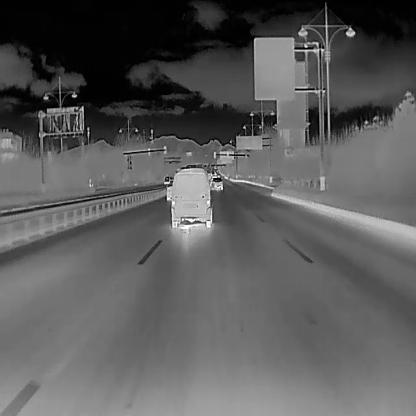car: (170, 166, 212, 228), (210, 177, 223, 190), (165, 184, 172, 200), (164, 174, 169, 185)
